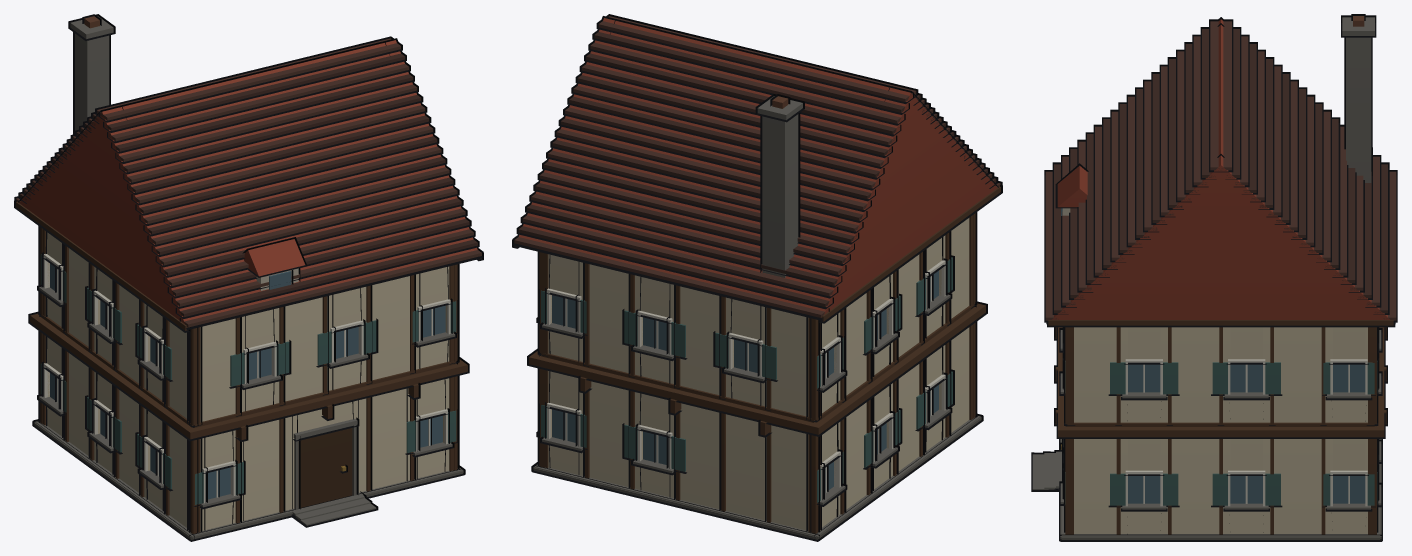
The model's file is town_townhouse_shut.glb.
The picture shows the model from 3 angles, left to right: view 1: azimuth 30°, elevation 25°; view 2: azimuth 150°, elevation 25°; view 3: azimuth 270°, elevation 25°; orthographic projection. The views are drawn at different scales.
Parts seen in each view (by area): view 1: prop; view 2: prop; view 3: prop.
Boxes of the visible parts, x1,y1,x2,y2 form: prop: (14,14,483,541); prop: (512,14,1002,541); prop: (1031,14,1397,541).
Size of the model in its own units: 10.3 by 13.38 by 10.74.
